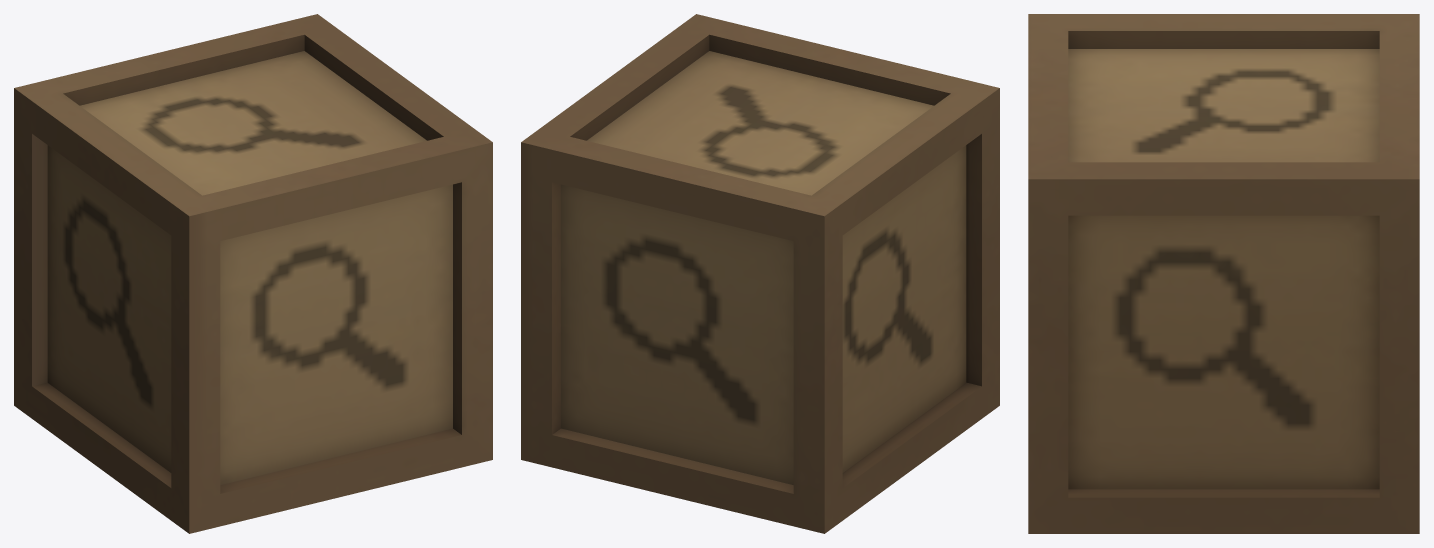
The model's file is box_magglass.glb.
3 views of the same model, side by side, from view 1: azimuth 30°, elevation 25°; view 2: azimuth 150°, elevation 25°; view 3: azimuth 270°, elevation 25° (orthographic). The views are drawn at different scales.
Visible parts, largest first — view 1: Object_2; view 2: Object_2; view 3: Object_2.
Boxes of the visible parts, bbox=[...] form: Object_2: bbox=[14, 14, 492, 533]; Object_2: bbox=[521, 14, 999, 533]; Object_2: bbox=[1028, 14, 1419, 533].
Size of the model in its own units: 1.49 by 1.49 by 1.49.
1 material, 1 textured.
